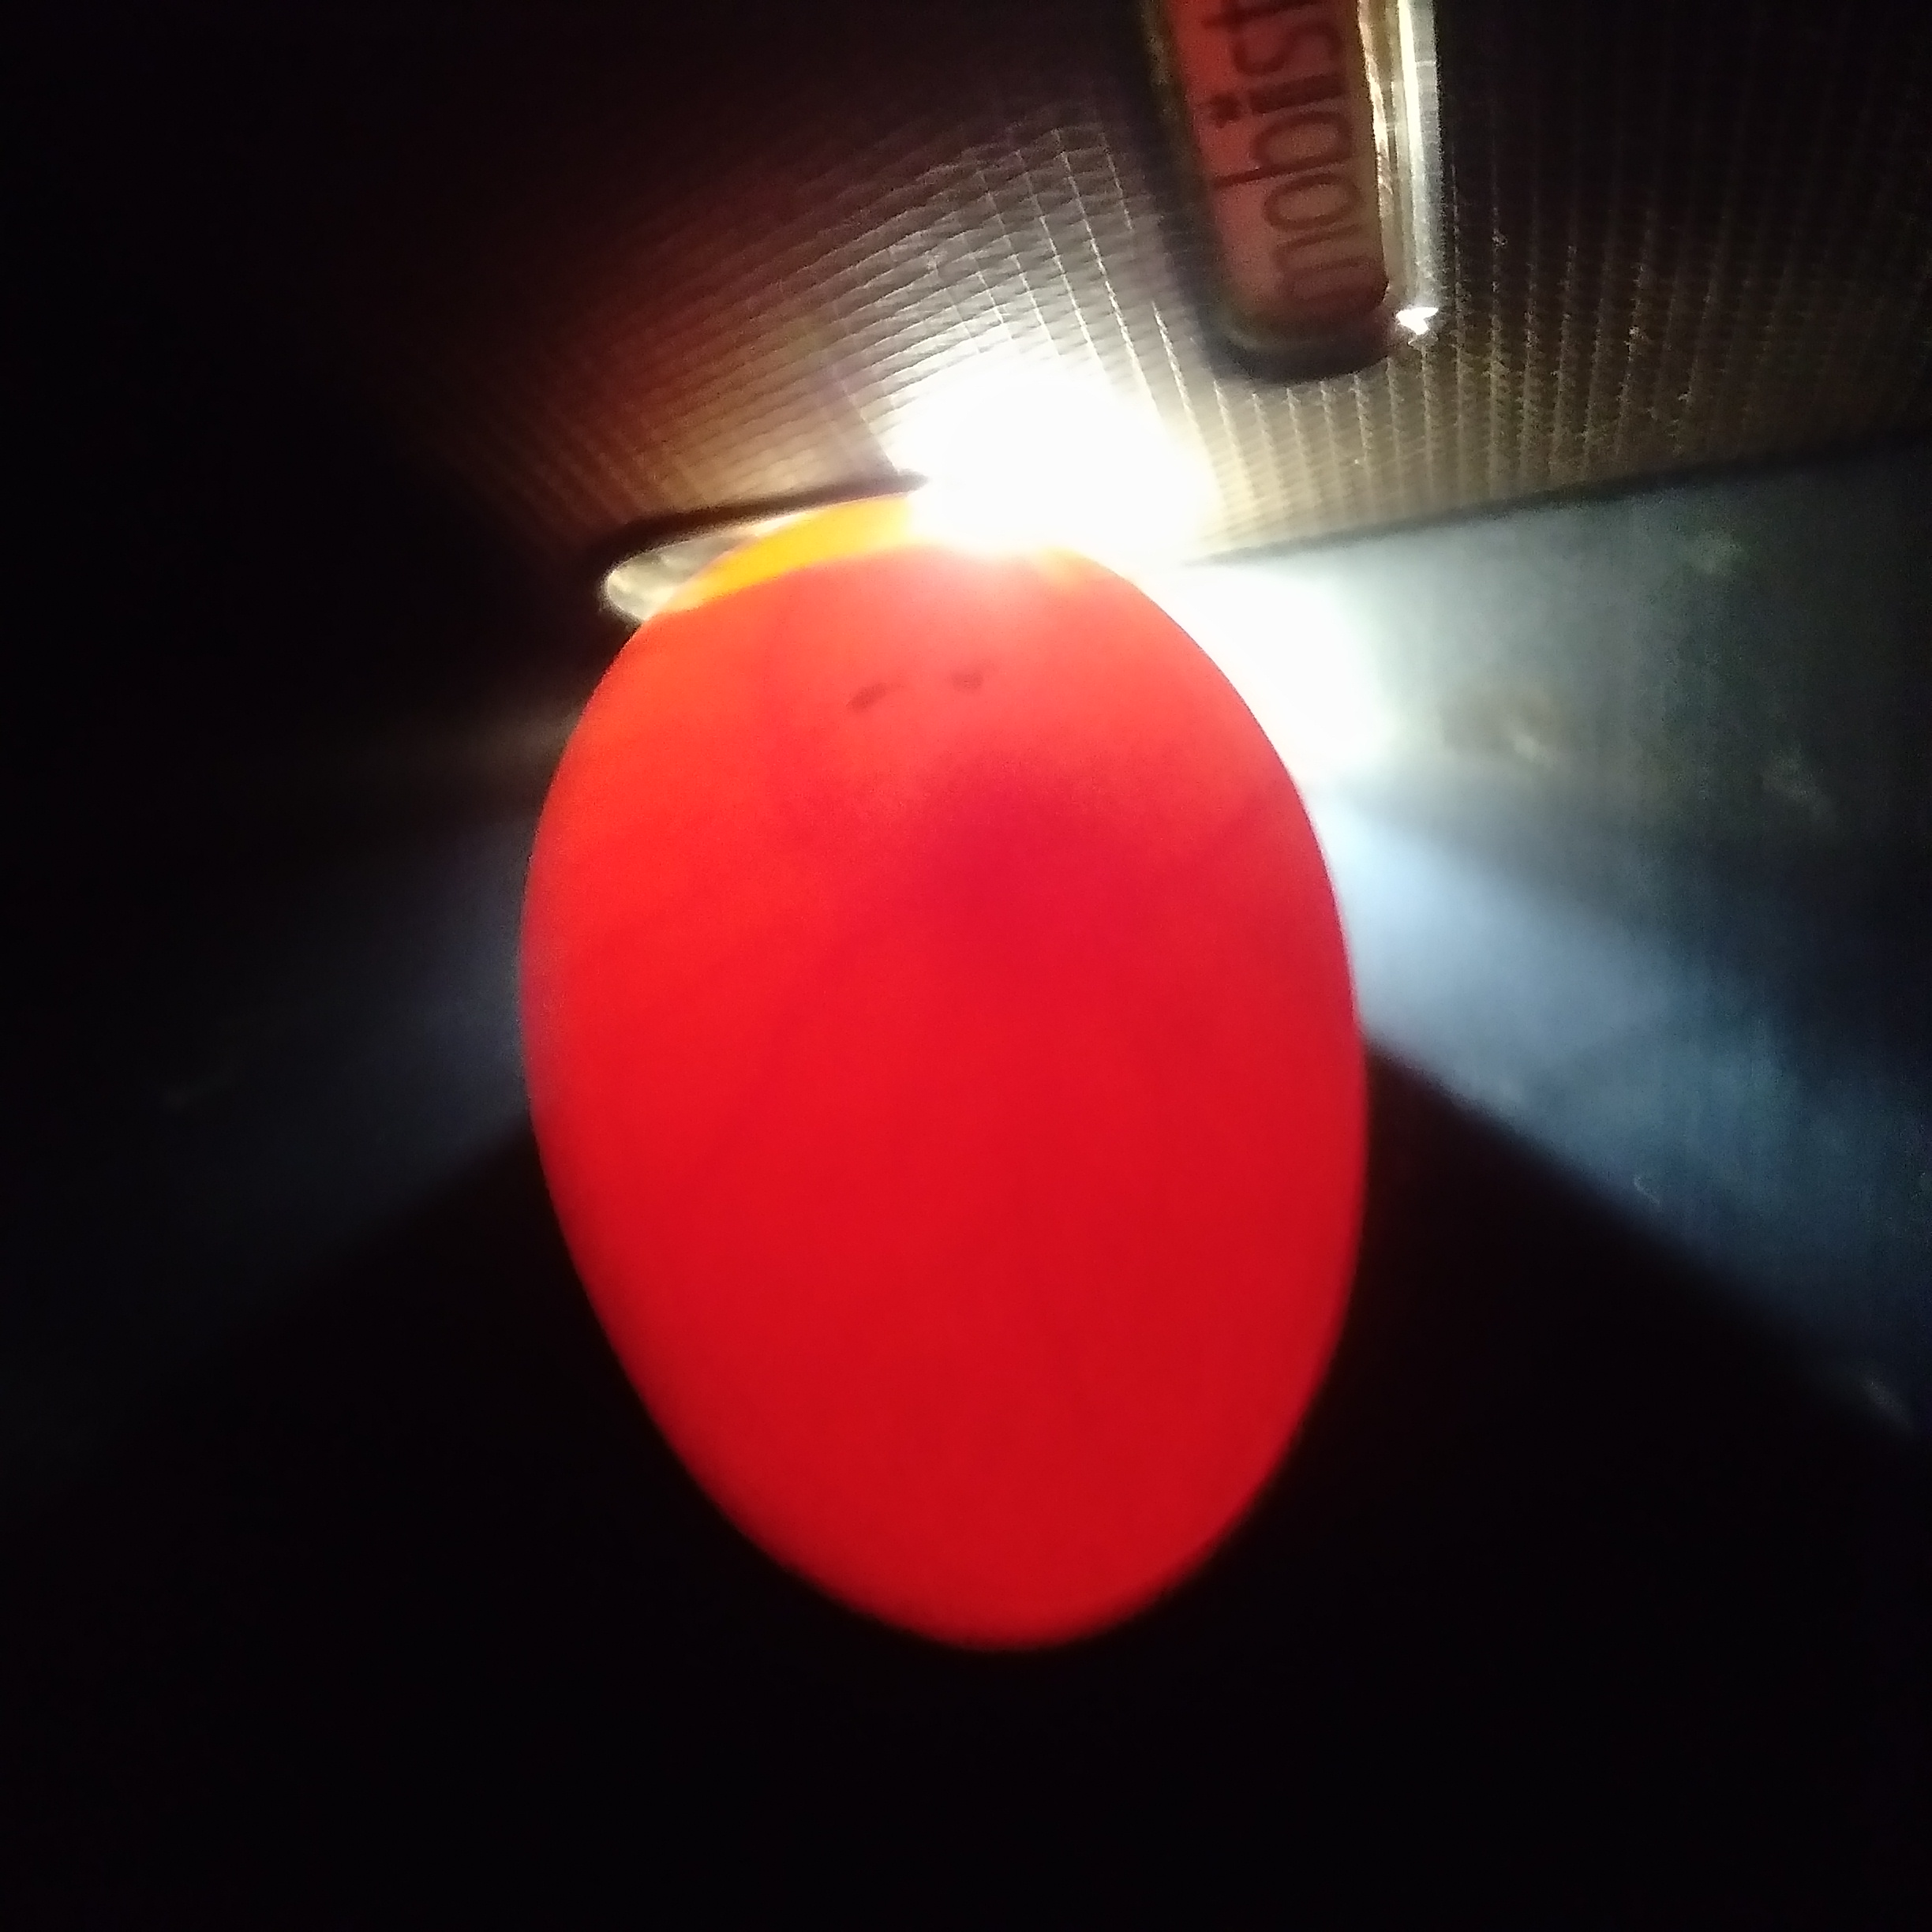embryo: (876, 725, 1058, 966)
